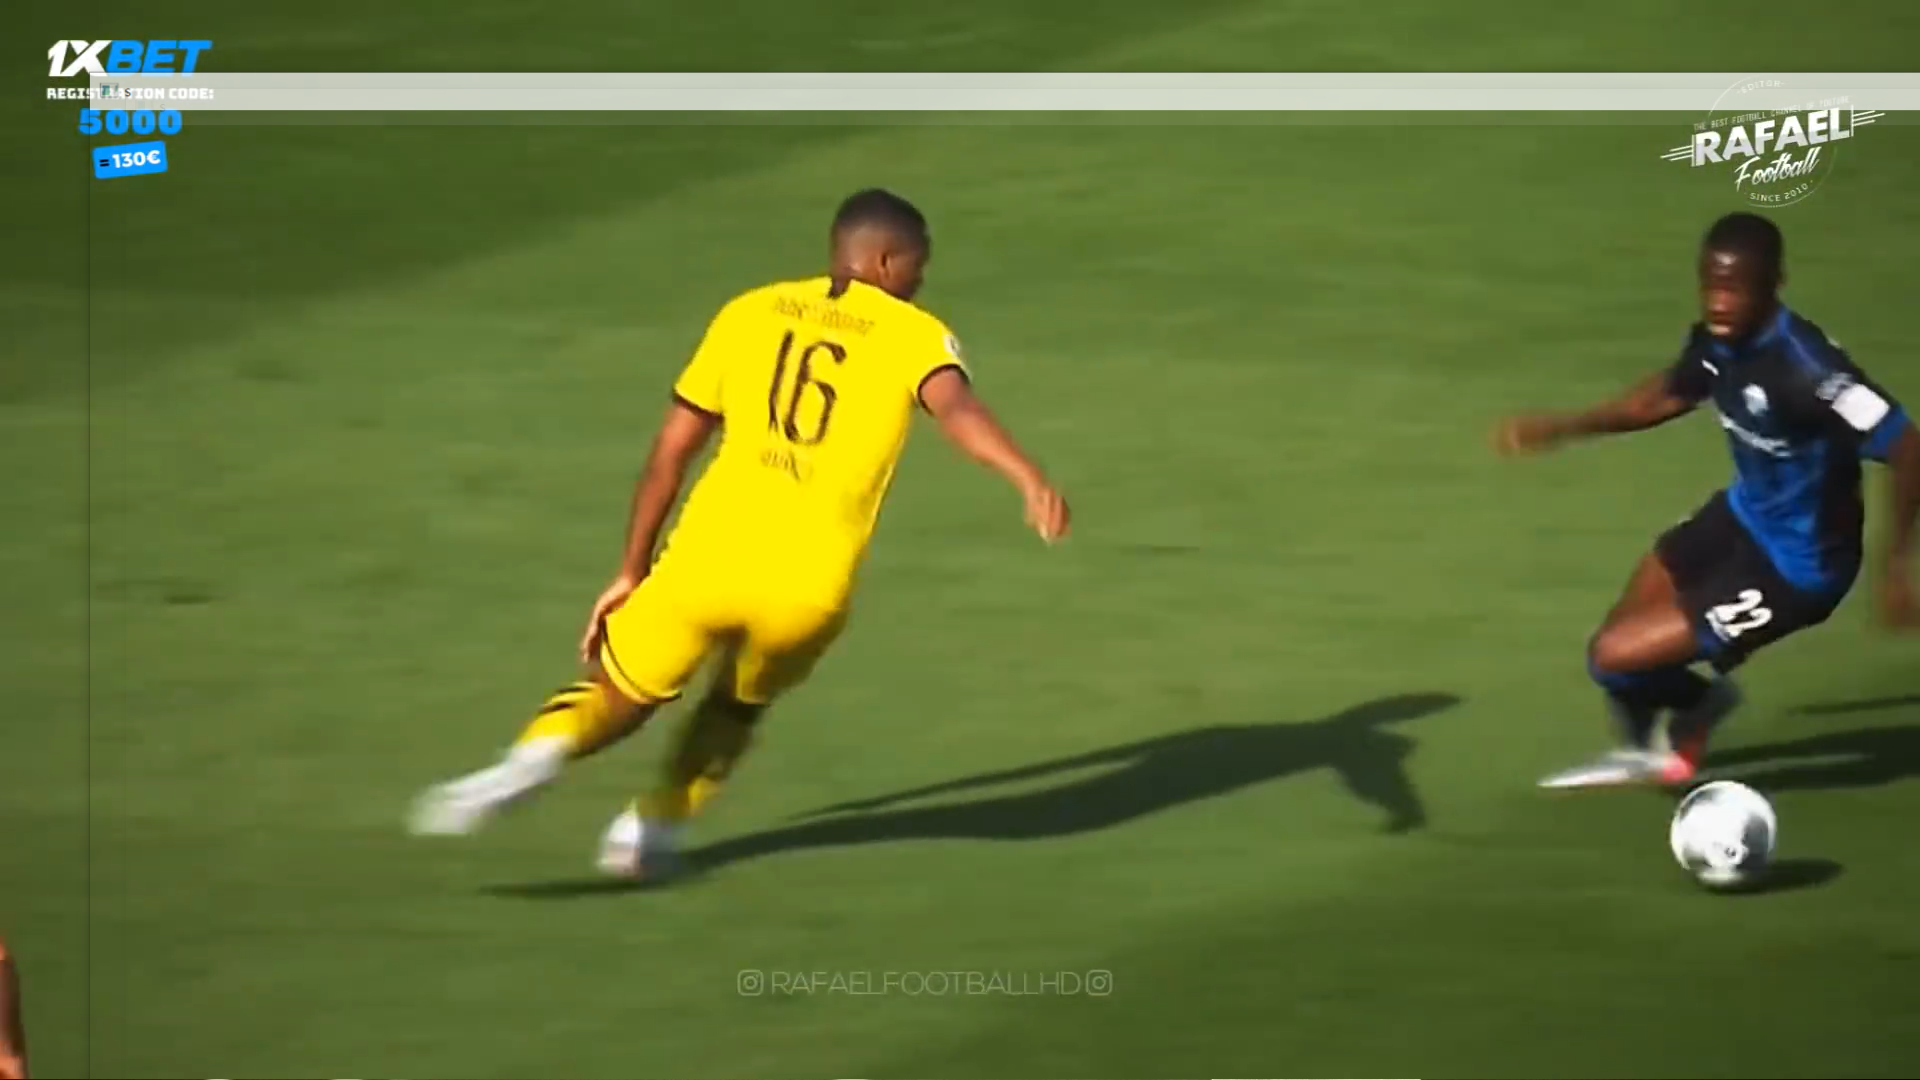ft: (1665, 773, 1783, 894)
